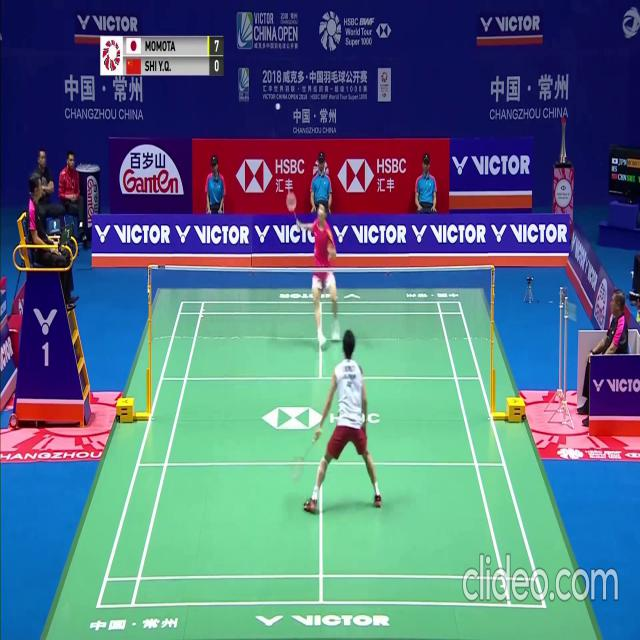Shuttlecock: (275, 102, 280, 110)
